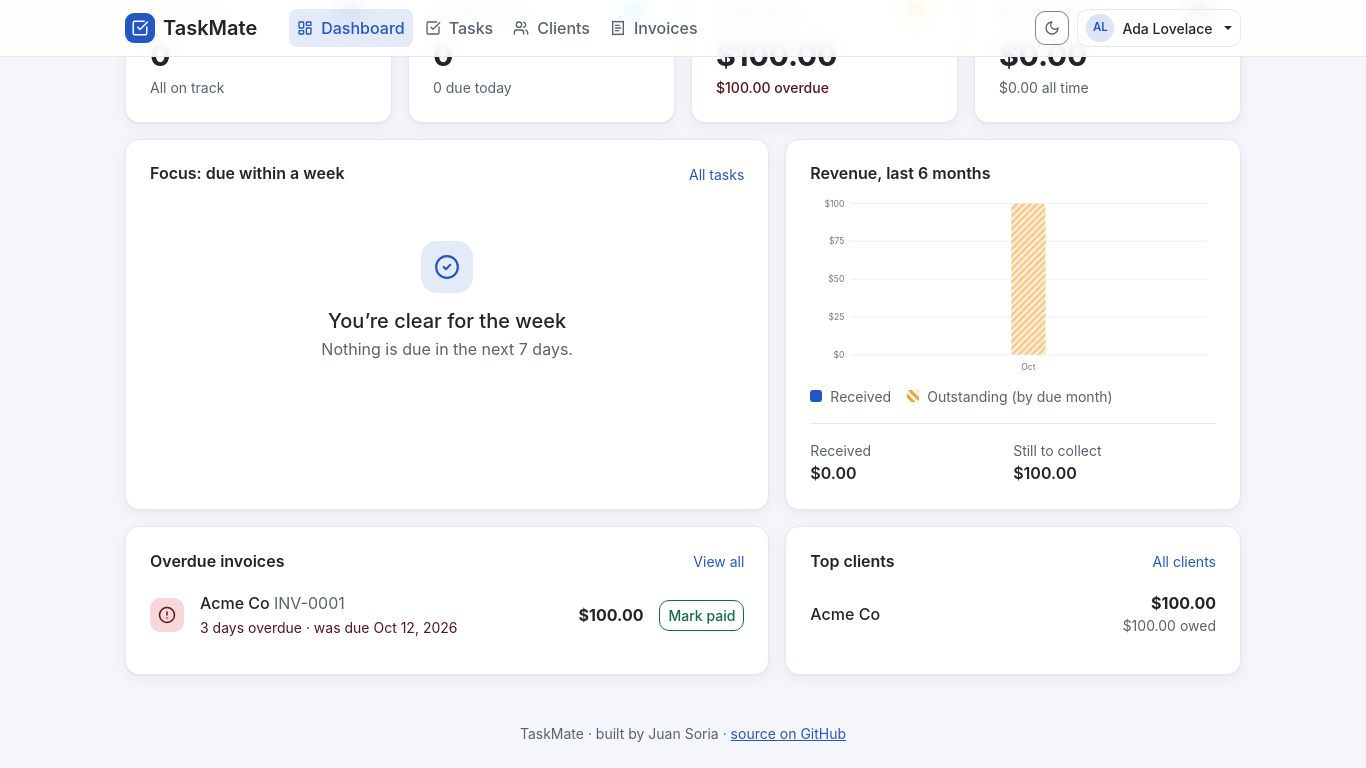
it: failed writes › dashboard: marking an invoice paid
This screenshot has width=1366, height=768.
(page scrolled)
Click the button with aria-label "Mark invoice INV-0001 as paid". click: (702, 615)
box: [660,600,744,631]
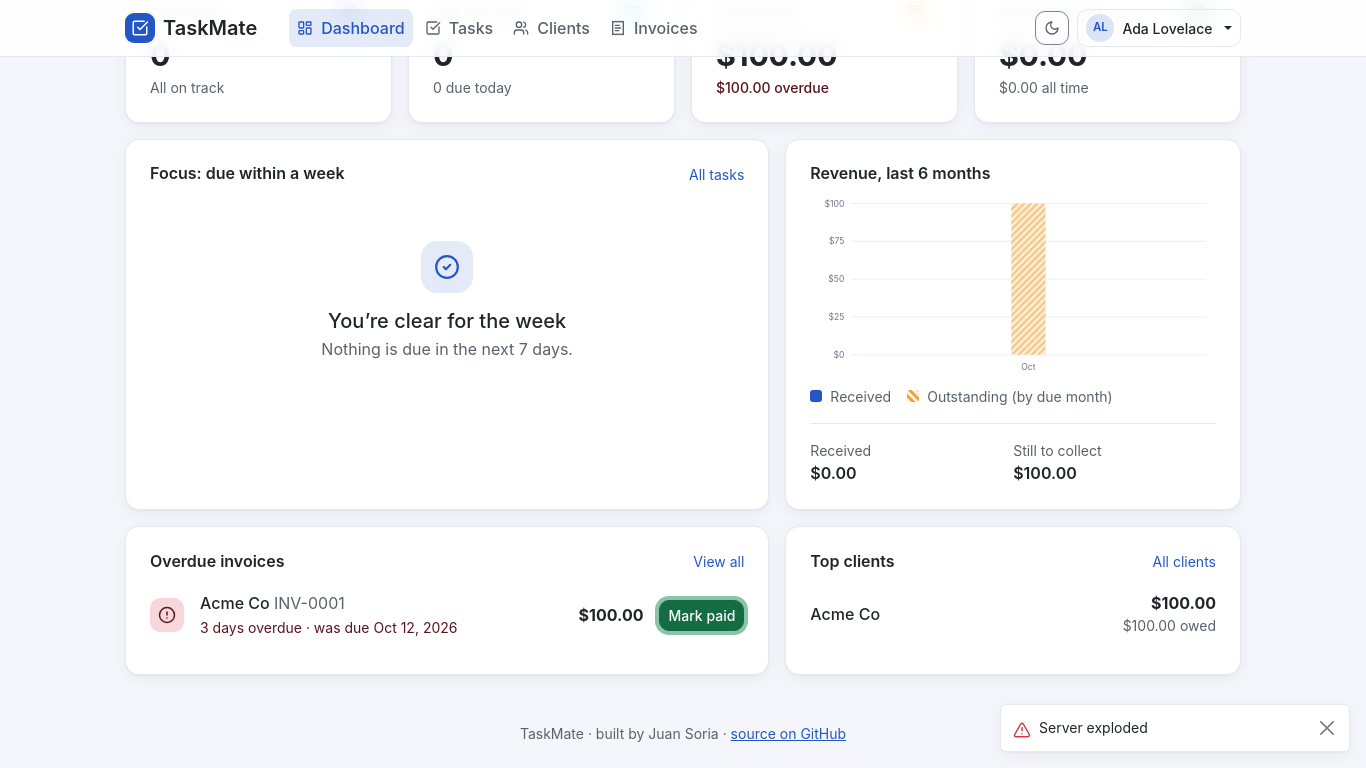
Check: the message reads "Server exploded", box [1039,719,1148,736]
